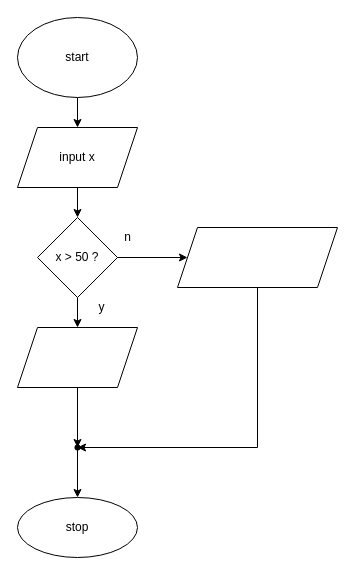
This 355x575 diagram has some shape labels left out. The centre of each missing label's shape, as x and y in pixels:
output did not pass the exam: point (257, 257)
output pass exam: point (77, 357)
